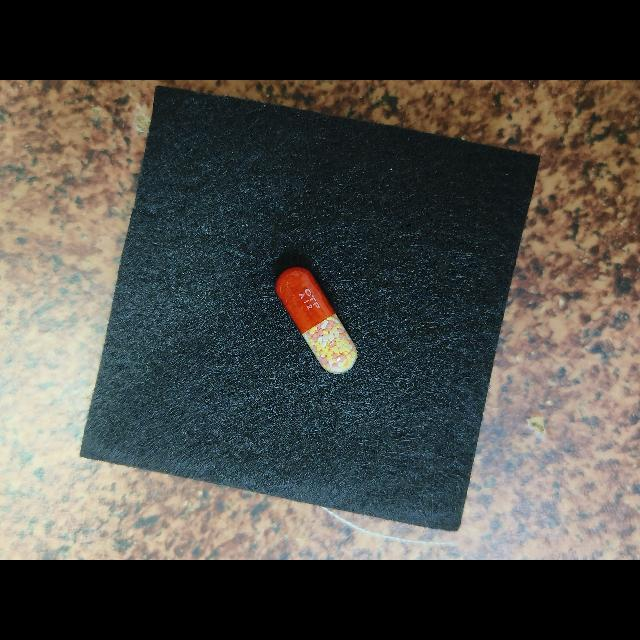Intact Capsule: (276, 267, 357, 373)
